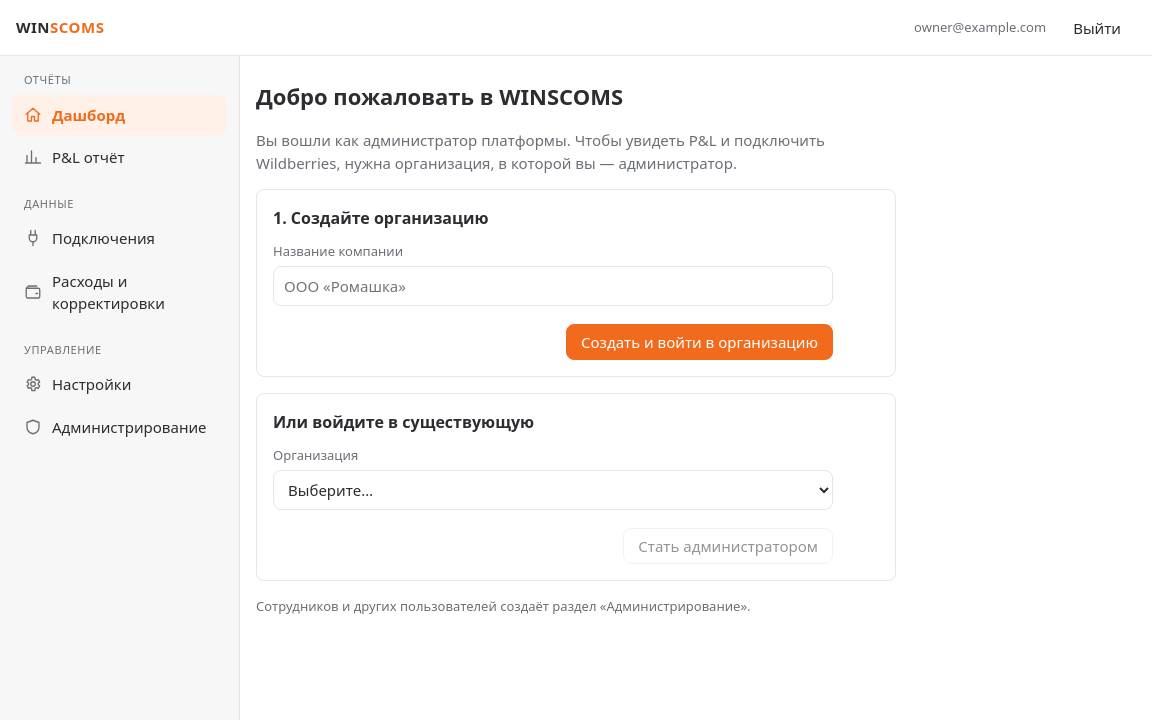
Test: пользователь без организации › можно войти в существующую организацию
Select "Существующая" in the dropdown labelled "Организация" at x=553, y=490, box [273, 470, 833, 510]
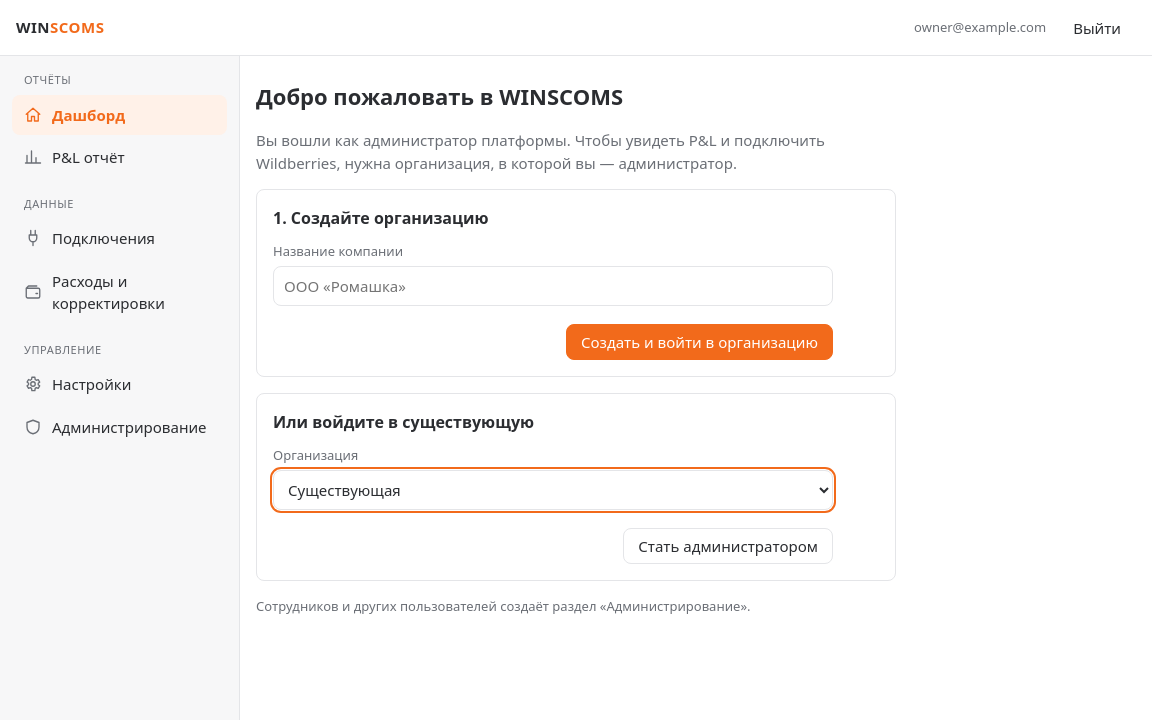
Click the button "Стать администратором" at x=728, y=546, box [623, 528, 833, 564]
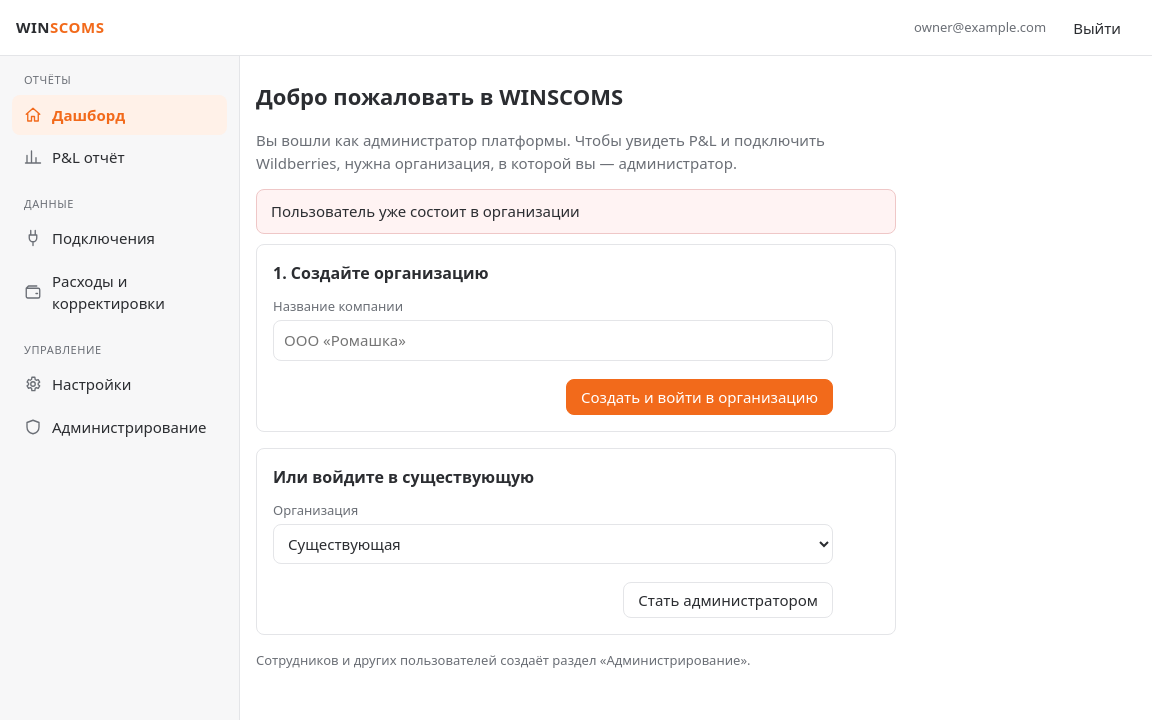
Check: the message shows "уже состоит", box [271, 201, 580, 221]
